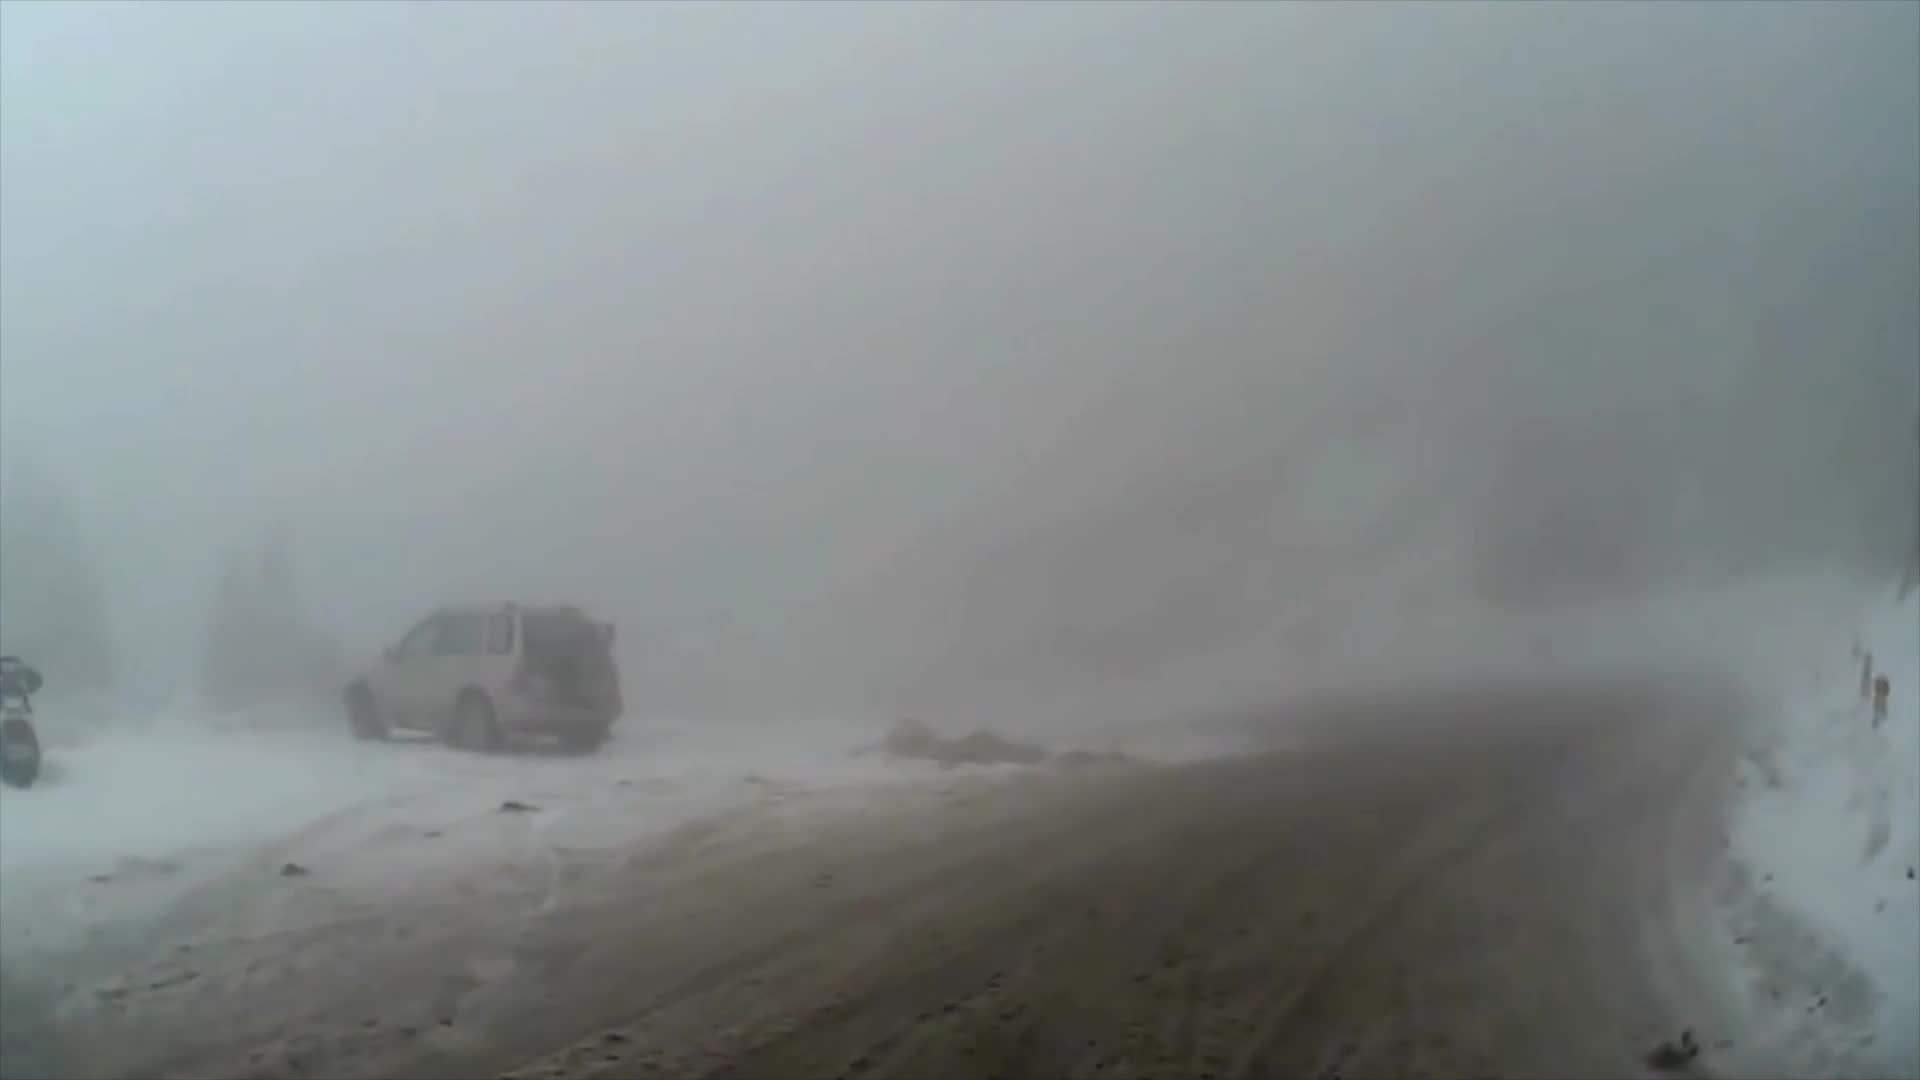vehicle: (334, 595, 618, 764)
